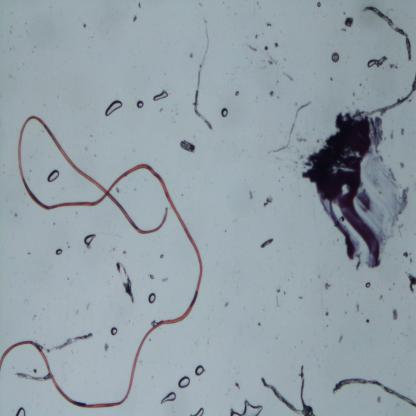Air bubble: (226, 400, 263, 416), (104, 98, 124, 116), (366, 54, 388, 70), (152, 87, 169, 103), (160, 391, 177, 405), (177, 374, 191, 390), (46, 167, 60, 183), (84, 233, 96, 247), (193, 363, 205, 377), (219, 106, 230, 119), (15, 406, 27, 416), (136, 99, 144, 111), (196, 405, 205, 415), (148, 292, 156, 303), (55, 247, 64, 256), (363, 281, 372, 289), (110, 327, 118, 336), (315, 1, 322, 10), (159, 252, 165, 261), (235, 90, 240, 98), (150, 272, 155, 280)
Background material: (178, 136, 196, 154), (405, 271, 416, 295), (261, 55, 279, 69), (258, 236, 274, 249), (341, 16, 356, 29), (244, 40, 258, 52), (262, 195, 274, 208), (281, 69, 293, 81), (391, 308, 399, 322), (330, 52, 340, 63), (324, 280, 332, 292), (272, 39, 280, 50), (130, 14, 140, 22), (294, 293, 304, 301), (398, 126, 406, 136), (267, 85, 273, 97), (235, 381, 242, 391), (274, 295, 279, 309), (103, 340, 109, 351), (336, 334, 344, 342), (390, 62, 397, 70), (355, 301, 359, 313), (324, 311, 330, 319), (390, 128, 394, 139), (248, 190, 252, 201), (365, 316, 369, 327), (91, 151, 97, 158), (86, 301, 91, 309), (159, 107, 164, 115), (138, 1, 142, 10), (340, 9, 346, 15), (223, 301, 228, 308), (32, 314, 37, 321), (265, 22, 272, 27), (400, 160, 404, 168), (340, 28, 348, 32), (116, 186, 120, 194), (82, 146, 90, 150), (252, 33, 258, 38), (188, 52, 193, 58), (256, 319, 260, 326), (122, 250, 127, 255), (264, 46, 268, 52), (276, 288, 280, 294), (83, 22, 86, 28), (67, 242, 70, 248), (330, 76, 333, 82), (14, 214, 18, 218)
Cellulose filter fibre: (354, 70, 416, 118), (190, 14, 215, 132), (361, 5, 413, 61), (266, 98, 314, 156), (332, 376, 416, 408), (260, 376, 316, 416), (40, 328, 93, 352), (115, 260, 134, 305), (298, 364, 309, 410), (14, 369, 50, 383)
Microfibre: (0, 113, 203, 409)
Pen: (302, 111, 410, 269)
